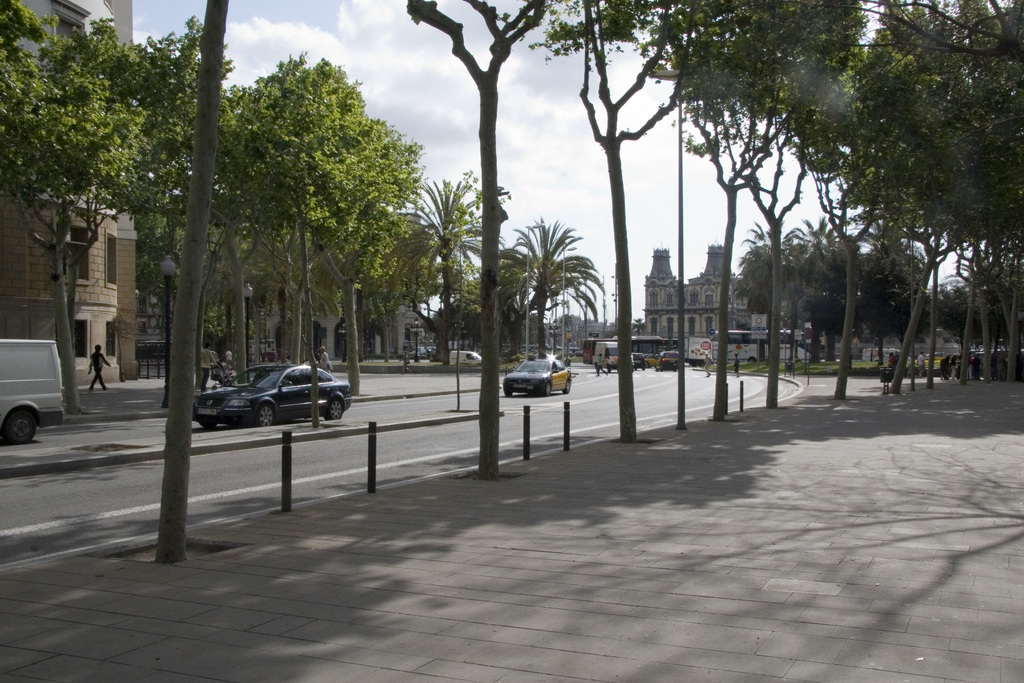Car: (189, 363, 355, 427), (503, 356, 574, 395), (659, 346, 684, 370), (633, 353, 645, 369)
